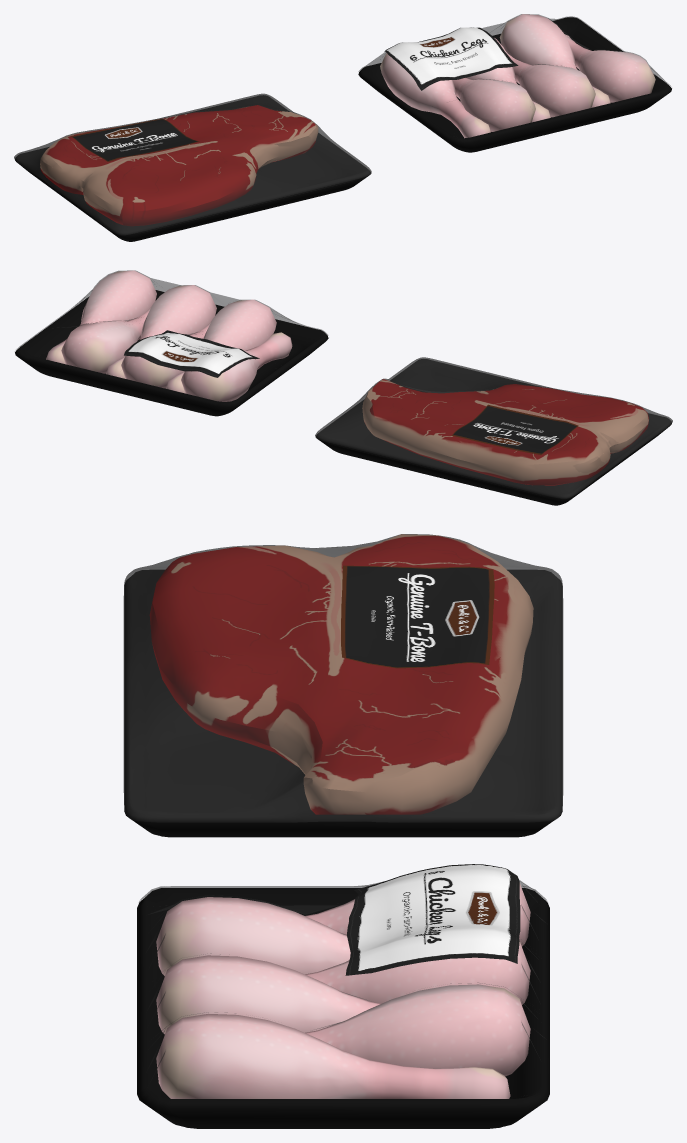
The model's file is meat.fbx.
3 views of the same model, one above another, from view 1: azimuth 30°, elevation 25°; view 2: azimuth 150°, elevation 25°; view 3: azimuth 270°, elevation 25° (orthographic). The views are drawn at different scales.
Parts seen in each view (by area): view 1: tbone plastic wrap, tbone meat, chickenlegs flipped, tbone packaging, chickenlegs, chicken packaging, chicken label, tbonelabel, chicken plastic wrap; view 2: tbone plastic wrap, tbone meat, tbone packaging, chickenlegs flipped, chickenlegs, chicken packaging, tbonelabel, chicken label, chicken plastic wrap; view 3: tbone plastic wrap, tbone meat, tbone packaging, chickenlegs flipped, chicken packaging, chickenlegs, chicken label, tbonelabel, chicken plastic wrap.
Part boxes in pixels (x1=…): tbone plastic wrap: x1=14, y1=93, x2=371, y2=235; tbone meat: x1=40, y1=105, x2=318, y2=226; chickenlegs flipped: x1=452, y1=34, x2=655, y2=131; tbone packaging: x1=15, y1=95, x2=370, y2=241; chickenlegs: x1=380, y1=14, x2=610, y2=138; chicken packaging: x1=358, y1=17, x2=671, y2=152; chicken label: x1=384, y1=27, x2=518, y2=90; tbonelabel: x1=71, y1=118, x2=199, y2=161; chicken plastic wrap: x1=358, y1=14, x2=670, y2=85; tbone plastic wrap: x1=315, y1=357, x2=672, y2=499; tbone meat: x1=362, y1=379, x2=648, y2=485; tbone packaging: x1=316, y1=359, x2=671, y2=505; chickenlegs flipped: x1=46, y1=270, x2=276, y2=393; chickenlegs: x1=61, y1=308, x2=292, y2=401; chicken packaging: x1=15, y1=290, x2=328, y2=416; tbonelabel: x1=452, y1=404, x2=578, y2=454; chicken label: x1=124, y1=330, x2=259, y2=377; chicken plastic wrap: x1=16, y1=270, x2=328, y2=349; tbone plastic wrap: x1=123, y1=534, x2=563, y2=822; tbone meat: x1=149, y1=534, x2=533, y2=814; tbone packaging: x1=124, y1=569, x2=562, y2=837; chickenlegs flipped: x1=156, y1=897, x2=510, y2=1098; chicken packaging: x1=137, y1=888, x2=549, y2=1128; chickenlegs: x1=305, y1=882, x2=530, y2=1076; chicken label: x1=345, y1=864, x2=520, y2=975; tbonelabel: x1=341, y1=565, x2=494, y2=668; chicken plastic wrap: x1=139, y1=880, x2=547, y2=1081.
Bounding box in the file's own units: 122 × 10.89 × 41.32.
